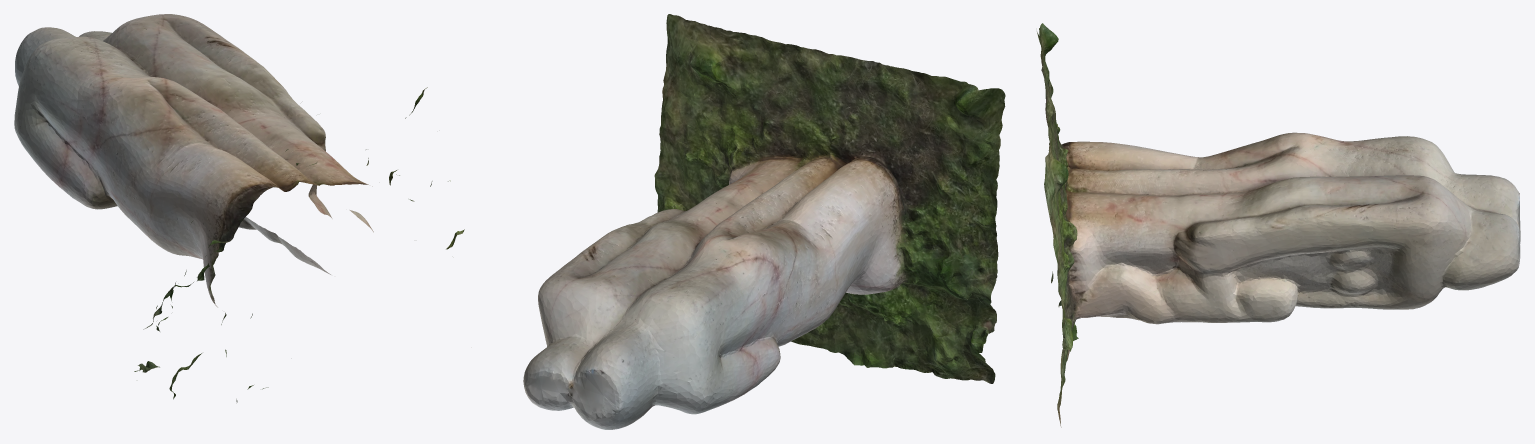
Rendered from three_humans.glb.
The picture shows the model from 3 angles, left to right: view 1: azimuth 30°, elevation 25°; view 2: azimuth 150°, elevation 25°; view 3: azimuth 270°, elevation 25°; orthographic projection. The views are drawn at different scales.
Parts seen in each view (by area): view 1: default; view 2: default; view 3: default.
Part boxes in pixels (x1,y1,x2,y2): default: [14, 14, 464, 402]; default: [523, 14, 1005, 429]; default: [1037, 23, 1520, 427].
Bounding box in the file's own units: 18.11 × 15.05 × 24.56.
1 material, 1 textured.
